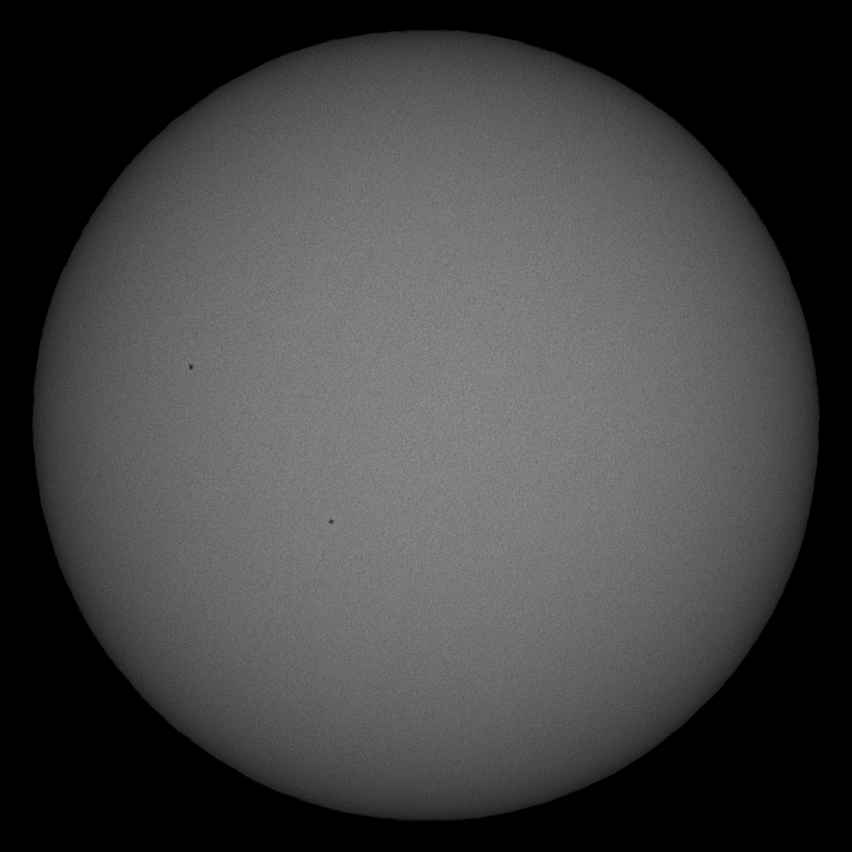sunspot: (323, 514, 341, 529), (183, 358, 198, 372)
